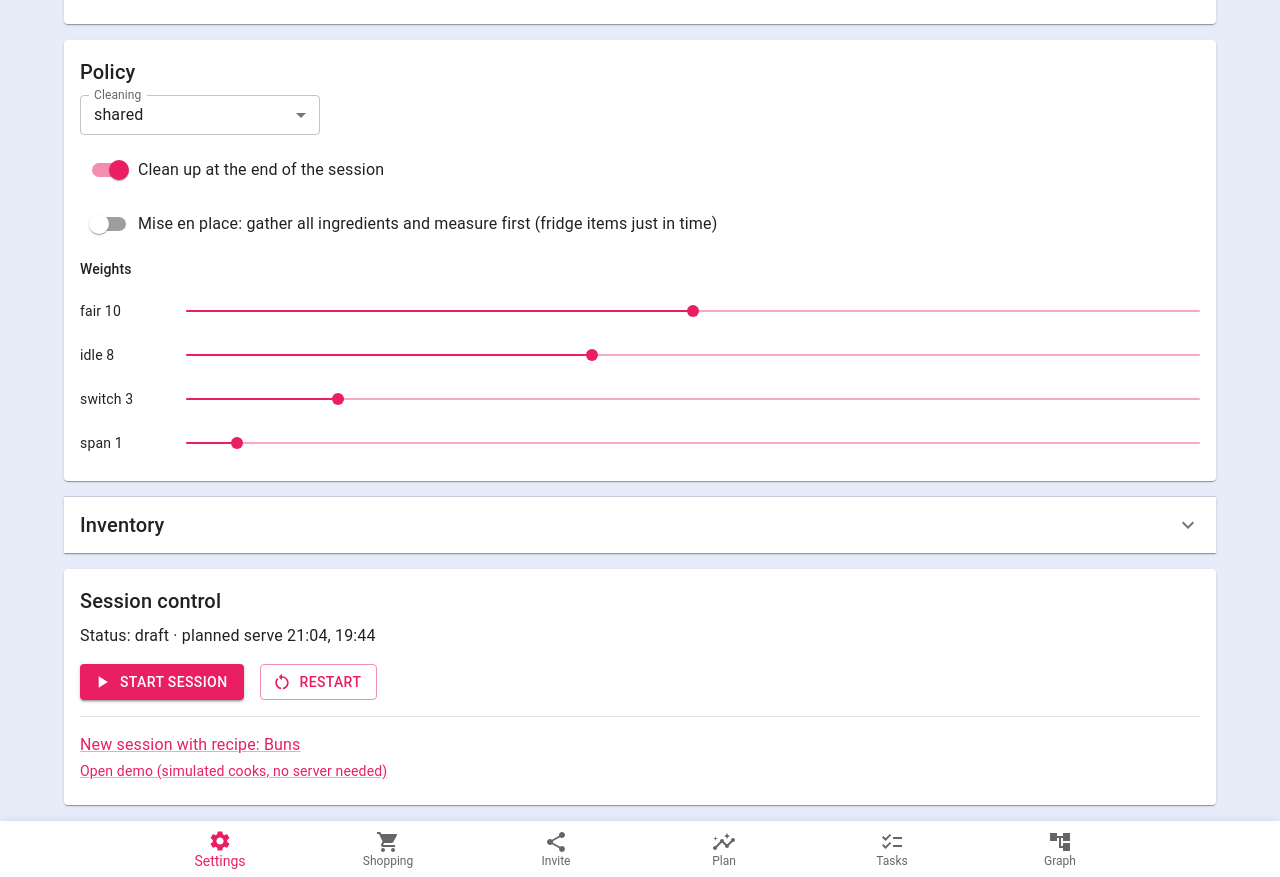
host can start the mock session and complete a task
The width and height of the screenshot is (1280, 877).
(page scrolled)
Click the button "Start session".
click(162, 682)  # box [80,664,244,700]
(page scrolled)
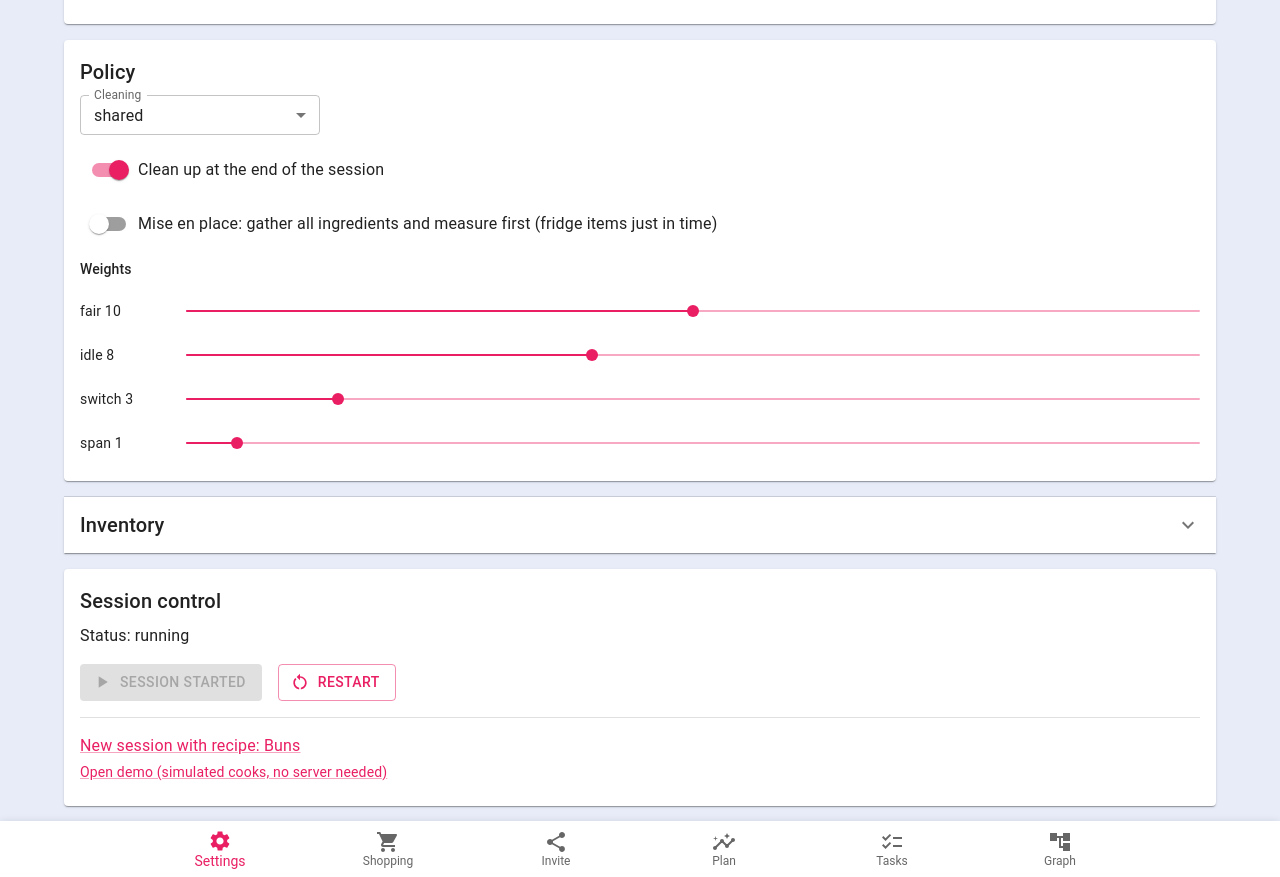
Expected: the button "Session started" is shown, [80,664,262,701]
Click the button "Tasks".
click(892, 849)  # box [808,821,976,876]
(page scrolled)
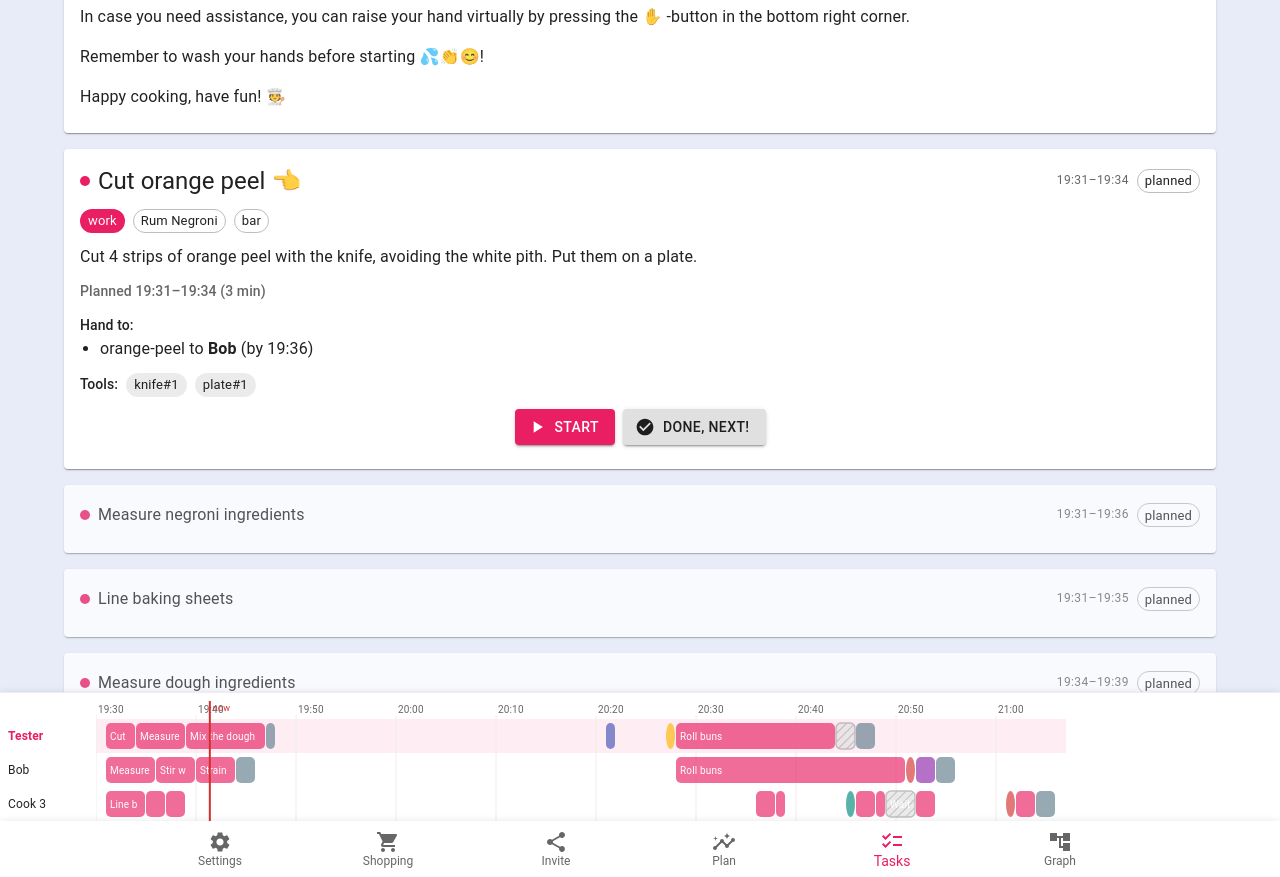
Click the button "Start".
click(565, 427)  # box [514,409,615,445]
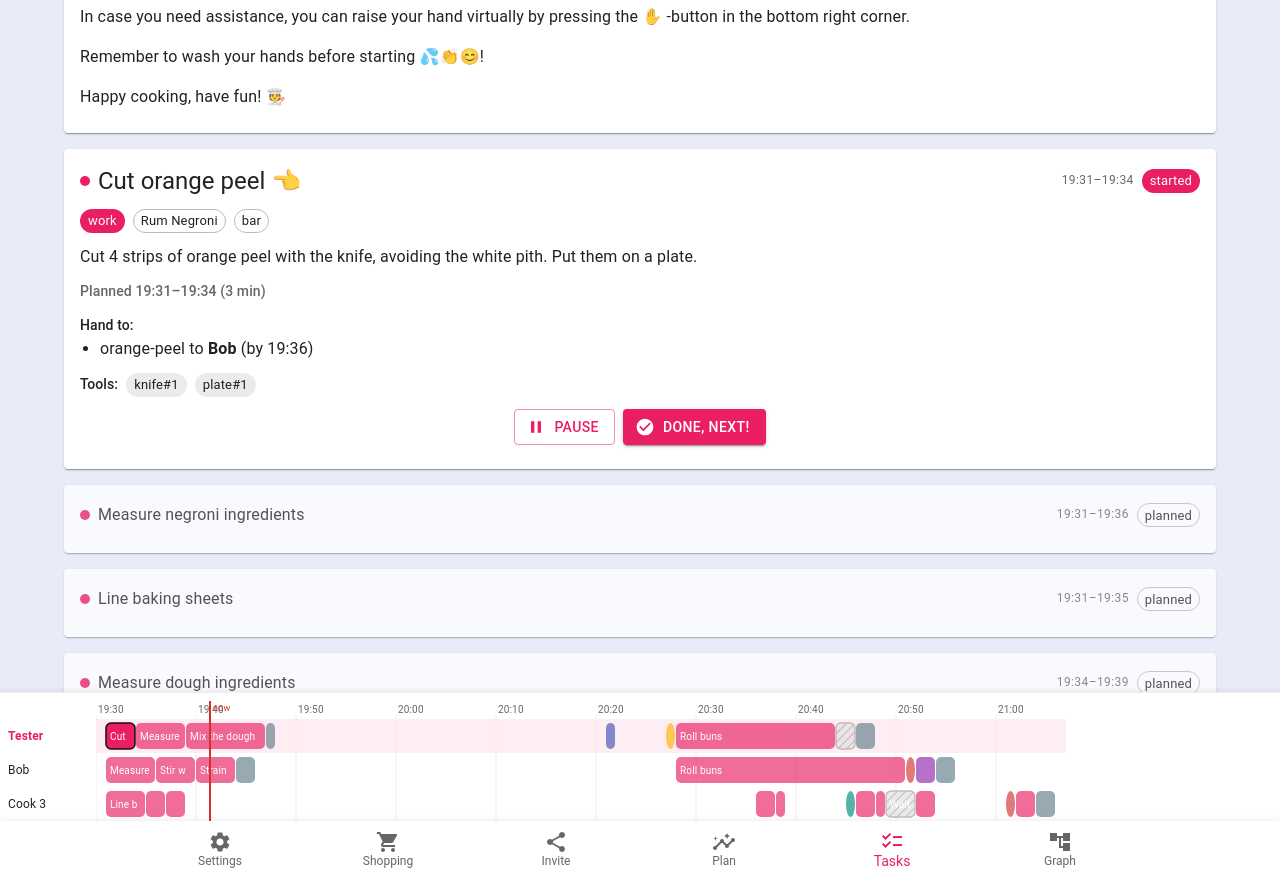
Expected: the button "Pause" is shown, [514,409,615,445]
Click the button "Done, next!".
click(694, 427)  # box [623,409,766,445]
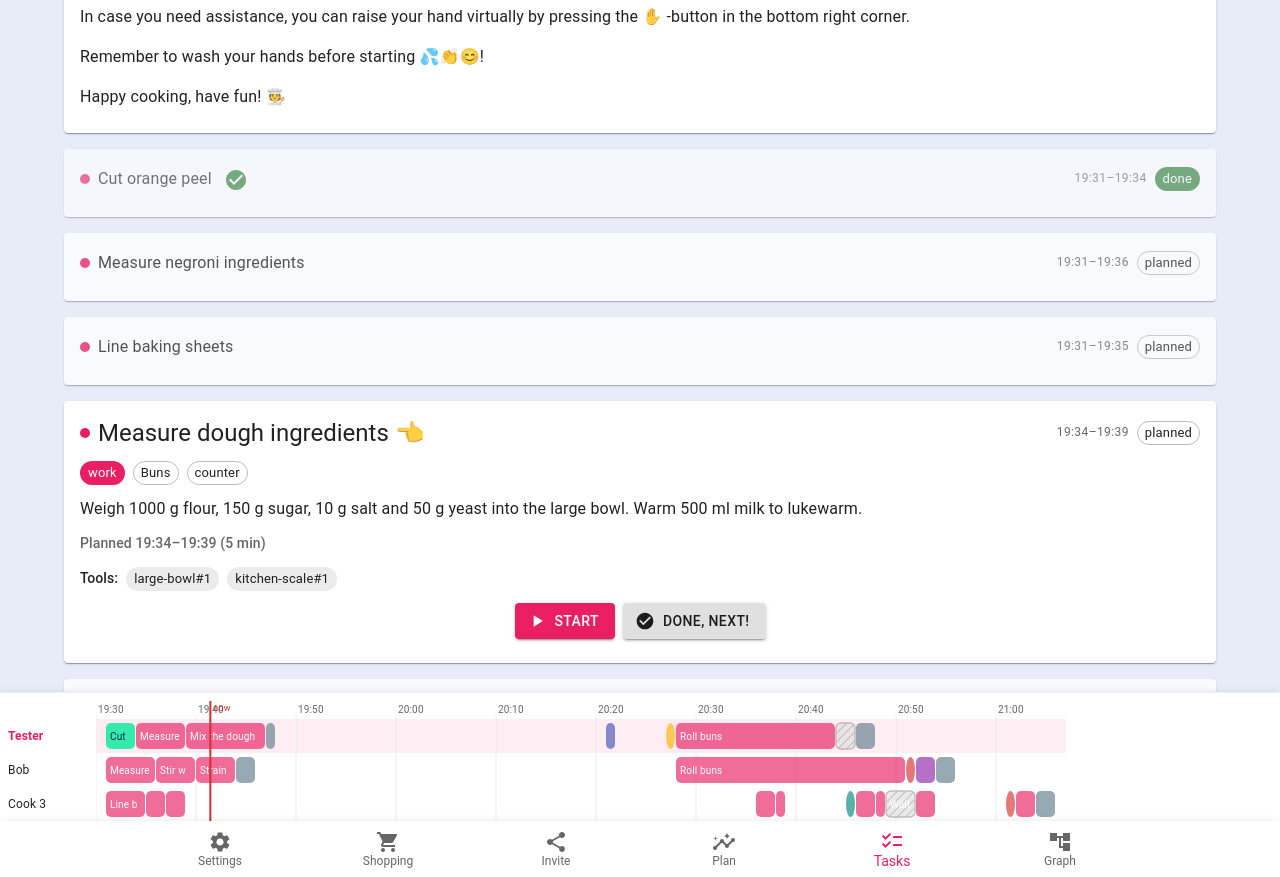
Expected: the text "done" is shown, [1163,171,1192,186]
